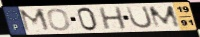0: (76, 7, 100, 31)
H: (98, 6, 129, 30)
M: (17, 8, 53, 33), (147, 4, 182, 29)
O: (46, 8, 72, 31)
U: (125, 5, 154, 30)
